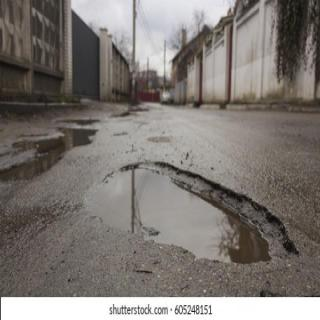pothole: (84, 161, 300, 264)
